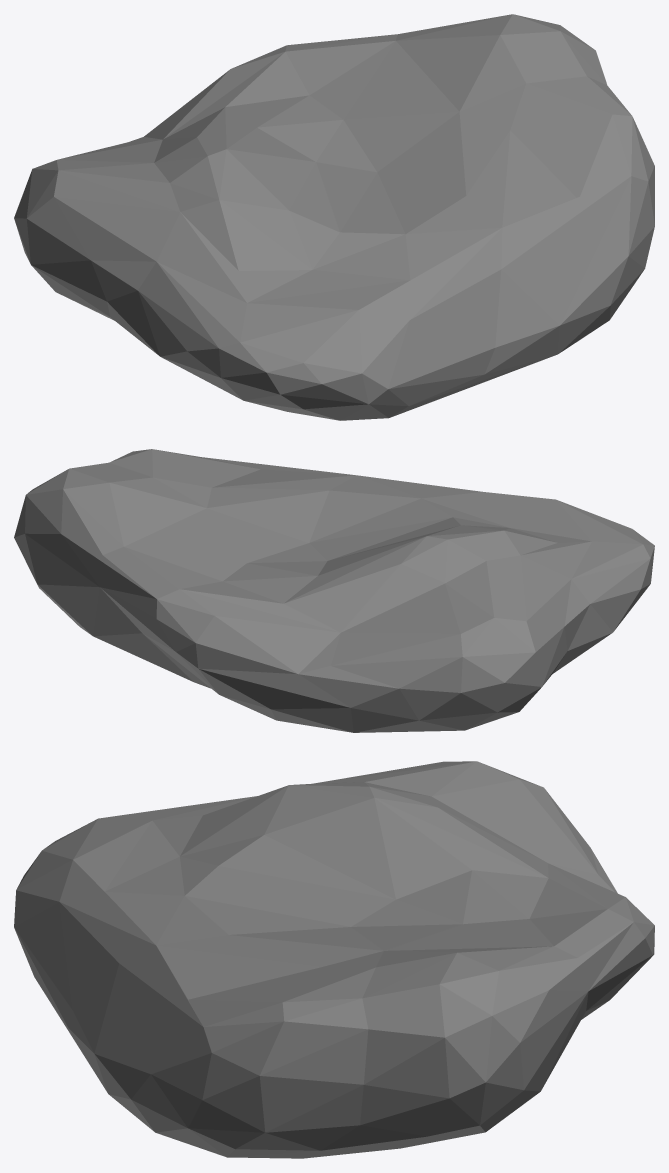
The model's file is pierre3.gltf.
3 renders of one model, top to bottom at view 1: azimuth 30°, elevation 25°; view 2: azimuth 150°, elevation 25°; view 3: azimuth 270°, elevation 25°, orthographic. The views are drawn at different scales.
Visible parts, largest first — view 1: Icosphere.002; view 2: Icosphere.002; view 3: Icosphere.002.
Part boxes in pixels (box(x1,y1,x2,y2)): Icosphere.002: box(14, 14, 654, 420); Icosphere.002: box(14, 449, 654, 732); Icosphere.002: box(14, 761, 654, 1158).
Size of the model in its own units: 1.63 by 0.5405 by 1.45.
Materials: 1 (1 with a texture image).
